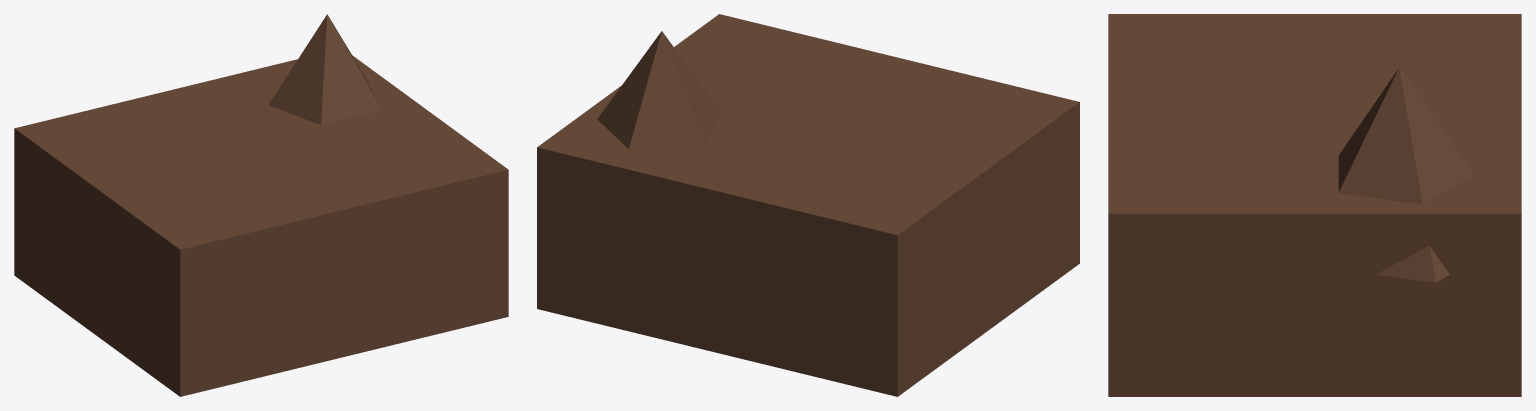
The model's file is chr_hair_05.glb.
The picture shows the model from 3 angles, left to right: view 1: azimuth 30°, elevation 25°; view 2: azimuth 150°, elevation 25°; view 3: azimuth 270°, elevation 25°; orthographic projection. The views are drawn at different scales.
Visible parts, largest first — view 1: chr_hair_05; view 2: chr_hair_05; view 3: chr_hair_05.
Boxes of the visible parts, <box> form: chr_hair_05: <box>14,14,508,396</box>; chr_hair_05: <box>537,14,1079,396</box>; chr_hair_05: <box>1108,14,1521,396</box>.
Bounding box in the file's own units: 0.5831 × 0.38 × 0.49.
Materials: 1 (1 with a texture image).
